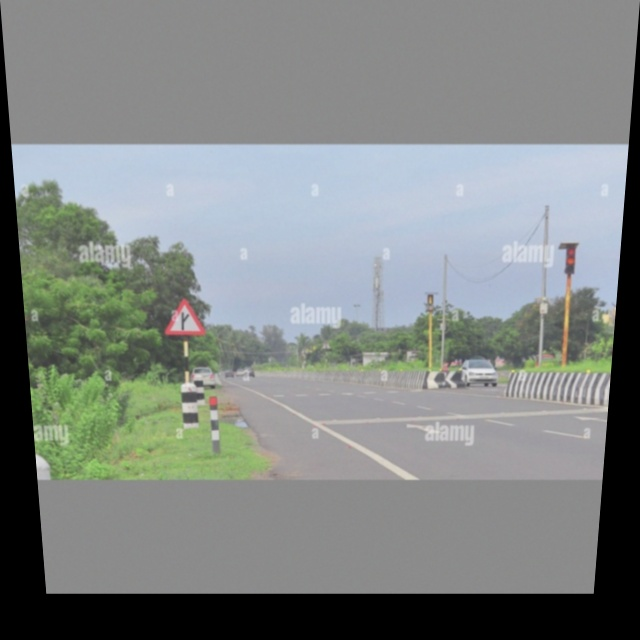Y_Intersection: (160, 297, 209, 342)
